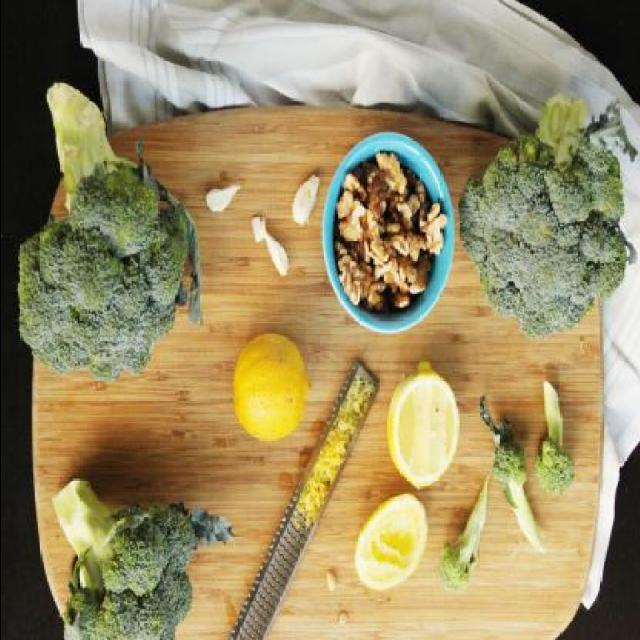Broccoli: (15, 81, 191, 382), (459, 98, 621, 340), (55, 476, 192, 639), (492, 439, 544, 552), (440, 482, 488, 593), (536, 380, 574, 500)
